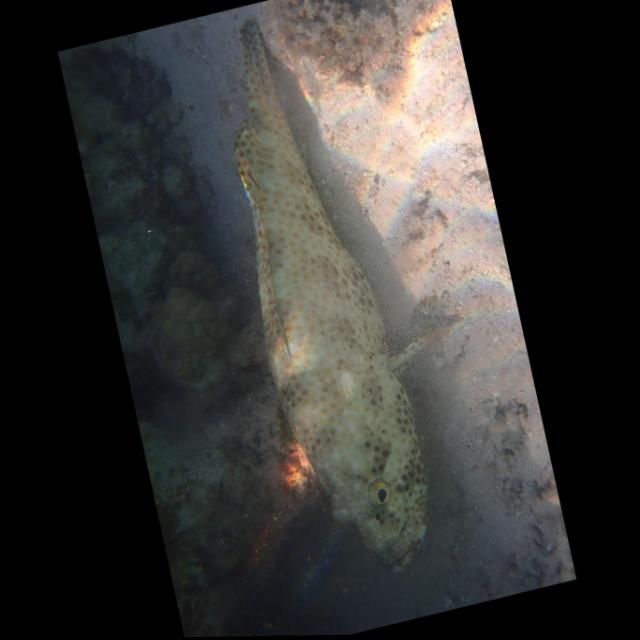Groupers: (183, 0, 489, 599)
